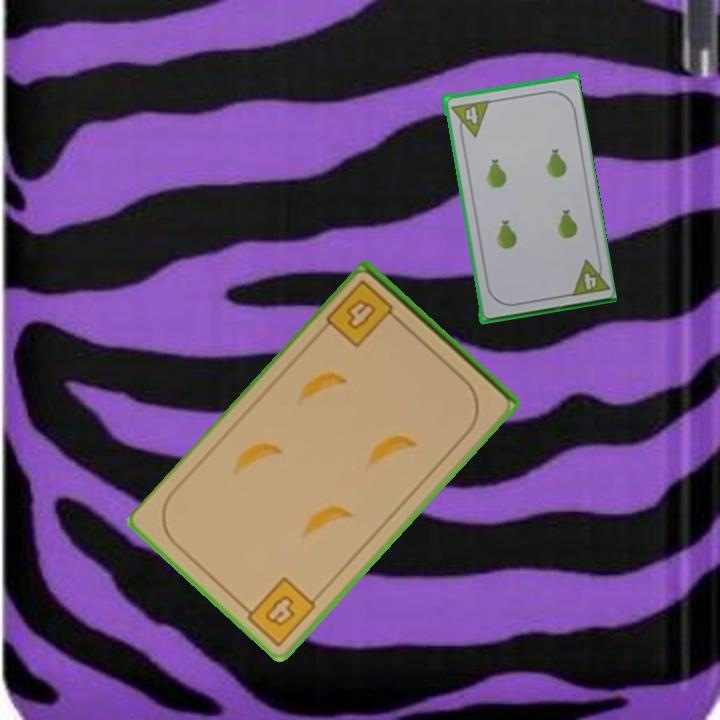4b: (237, 573, 320, 649), (323, 276, 405, 351)
4p: (566, 254, 610, 299), (447, 96, 491, 140)
